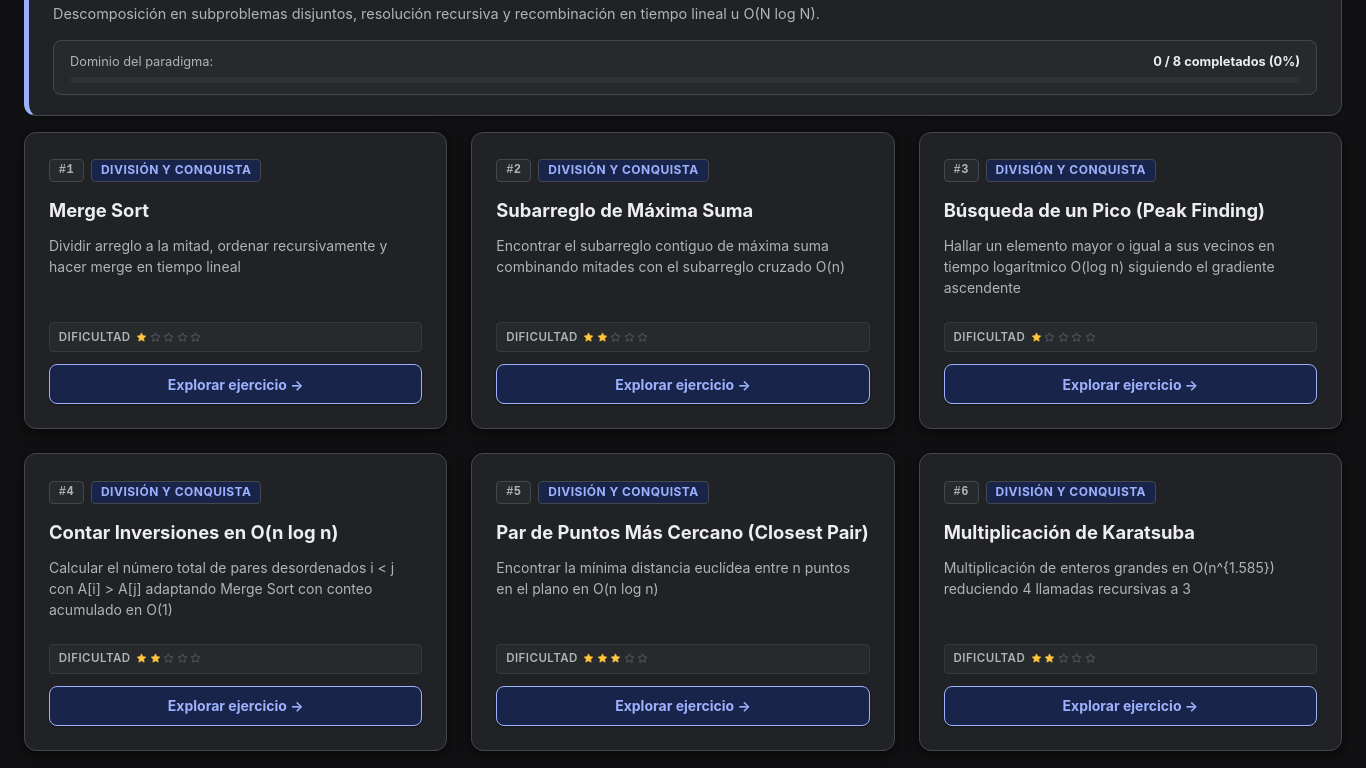
Test: Phase D: Browser / User Journey Integration Verification (15 Core Flows) › Flow 3: Exercise selection transitions to ExerciseView
(page scrolled)
Click the 1st button with class "btn-open-exercise".
click(236, 384)  # box top-left (49, 364), bottom-right (422, 404)
(page scrolled)
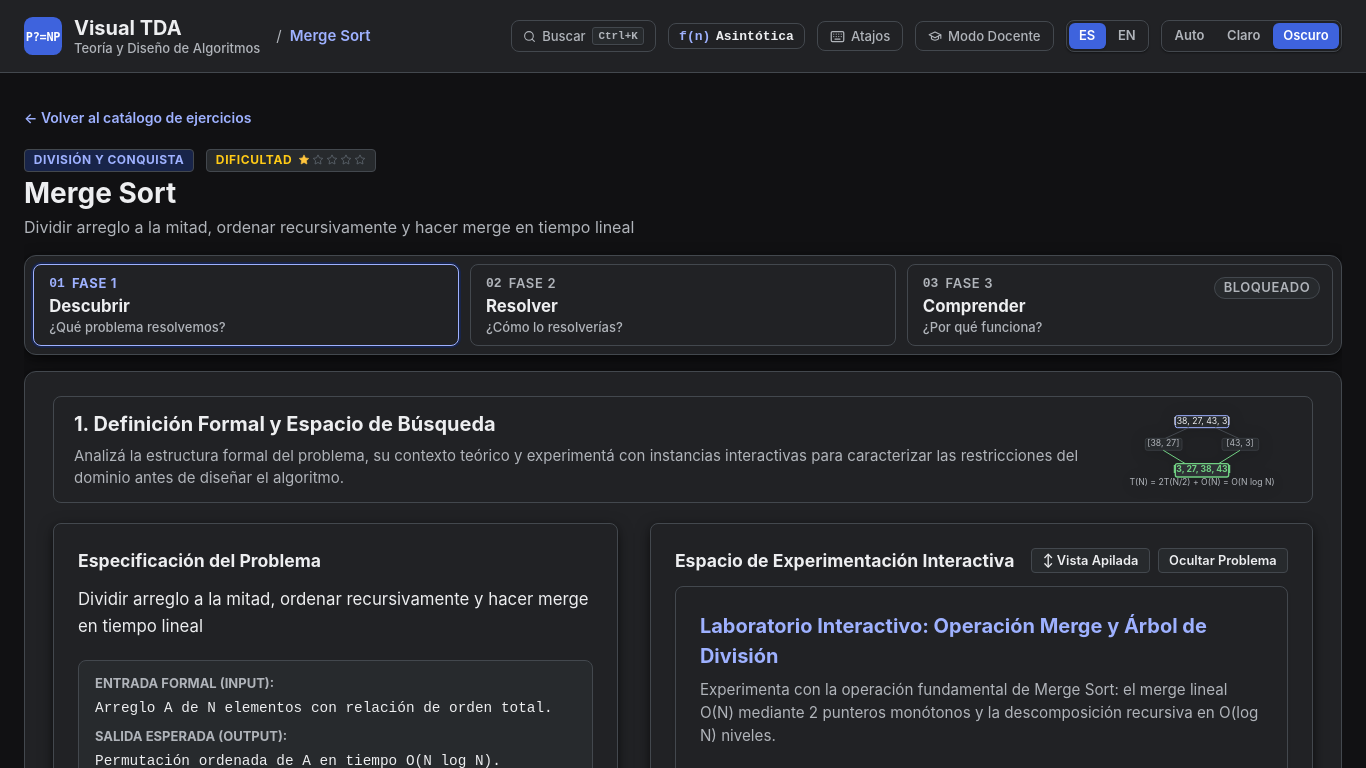
Now the button with class "btn-back" is shown, box top-left (24, 109), bottom-right (251, 126)
